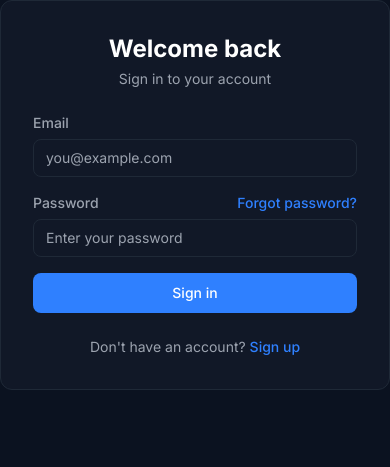
LoginForm › displays error message on login failure
In the field labelled "Email": (195,158) x1=33 y1=139 x2=357 y2=177, type "test@example.com"
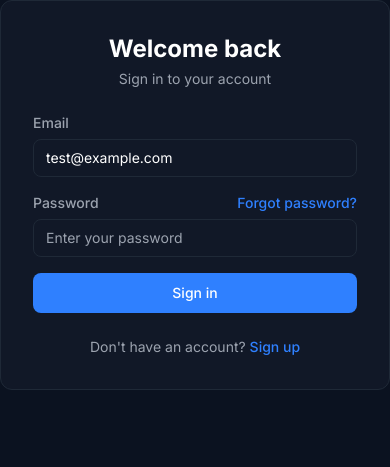
In the password field labelled "Password": (195,238) x1=33 y1=219 x2=357 y2=257, type "wrongpassword"
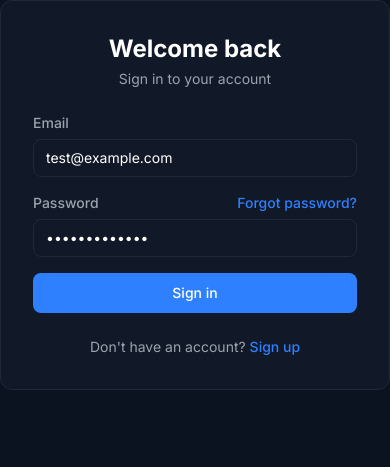
Click the button "Sign in": (195,293) x1=33 y1=273 x2=357 y2=313
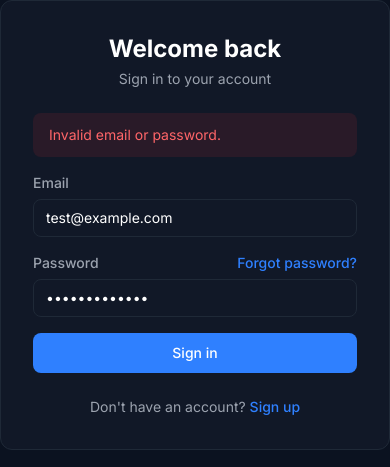
Result: the text "Invalid email or password." is shown at x1=33 y1=113 x2=357 y2=157
